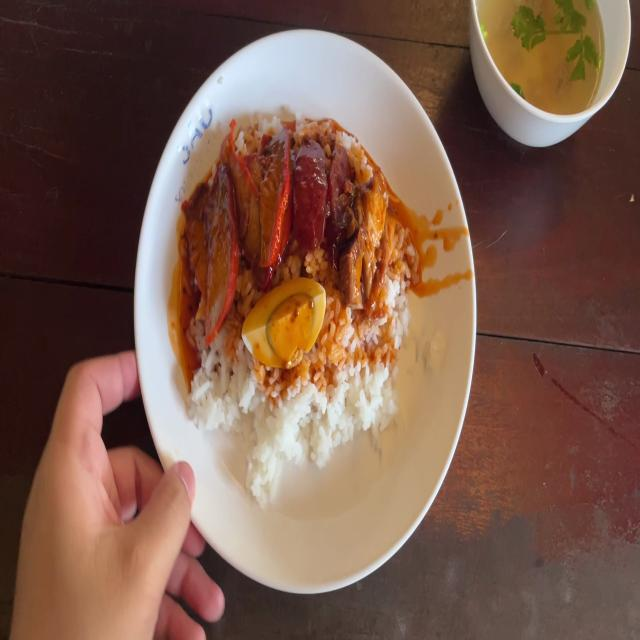red_pork_and_crispy_pork: (246, 278, 325, 367)
stir_fried_basil: (293, 136, 356, 250)
